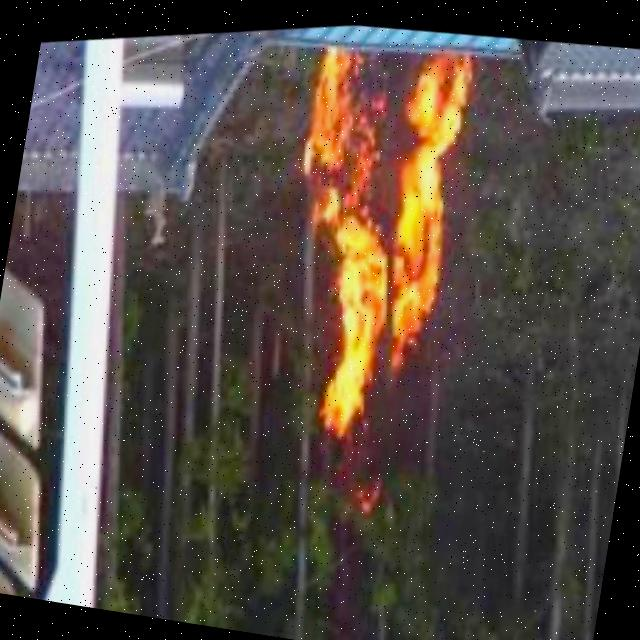fire: (245, 32, 523, 457)
